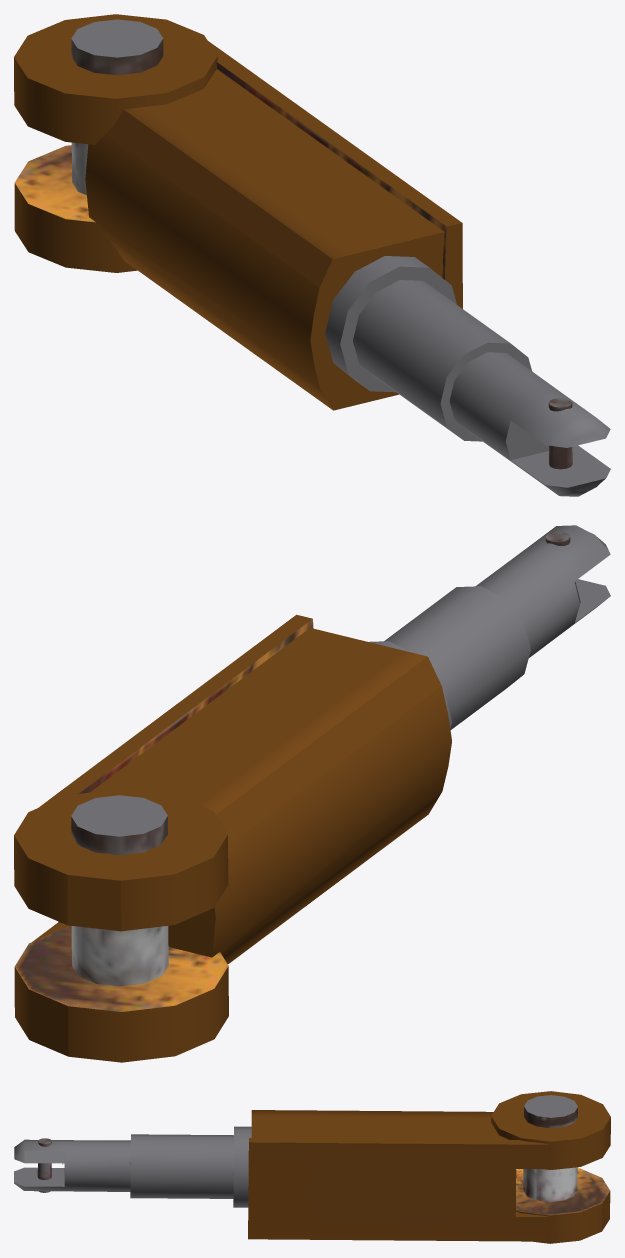
Rendered from handA.obj.
The picture shows the model from 3 angles, top to bottom: view 1: azimuth 30°, elevation 25°; view 2: azimuth 150°, elevation 25°; view 3: azimuth 270°, elevation 25°; orthographic projection. The views are drawn at different scales.
Visible parts, largest first — view 1: handA:hand_lowpolySurface397polySurface52polySurface22, handA:hand_lowpolySurface397polySurface52polySurface23, handA:hand_lowpolySurface397polySurface52polySurface32, handA:hand_lowpolySurface397polySurface52polySurface47, handA:hand_lowpolySurface397polySurface52polySurface4, handA:hand_lowpolySurface397polySurface52polySurface7, handA:hand_lowpolySurface397polySurface52polySurface26, handA:hand_lowpolySurface397polySurface52polySurface45, handA:hand_lowpolySurface397polySurface52polySurface34, handA:hand_lowpolySurface397polySurface52polySurface3, handA:hand_lowpolySurface397polySurface52polySurface15, handA:hand_lowpolySurface397polySurface52polySurface14 (+6 smaller); view 2: handA:hand_lowpolySurface397polySurface52polySurface22, handA:hand_lowpolySurface397polySurface52polySurface23, handA:hand_lowpolySurface397polySurface52polySurface26, handA:hand_lowpolySurface397polySurface52polySurface4, handA:hand_lowpolySurface397polySurface52polySurface47, handA:hand_lowpolySurface397polySurface52polySurface34, handA:hand_lowpolySurface397polySurface52polySurface32, handA:hand_lowpolySurface397polySurface52polySurface8, handA:hand_lowpolySurface397polySurface52polySurface45, handA:hand_lowpolySurface397polySurface52polySurface15, handA:hand_lowpolySurface397polySurface52polySurface33, handA:hand_lowpolySurface397polySurface52polySurface17 (+1 smaller); view 3: handA:hand_lowpolySurface397polySurface52polySurface36, handA:hand_lowpolySurface397polySurface52polySurface22, handA:hand_lowpolySurface397polySurface52polySurface23, handA:hand_lowpolySurface397polySurface52polySurface32, handA:hand_lowpolySurface397polySurface52polySurface47, handA:hand_lowpolySurface397polySurface52polySurface8, handA:hand_lowpolySurface397polySurface52polySurface34, handA:hand_lowpolySurface397polySurface52polySurface4, handA:hand_lowpolySurface397polySurface52polySurface26, handA:hand_lowpolySurface397polySurface52polySurface45, handA:hand_lowpolySurface397polySurface52polySurface14, handA:hand_lowpolySurface397polySurface52polySurface15 (+2 smaller).
Part boxes in pixels (x1,y1,x2,y2): handA:hand_lowpolySurface397polySurface52polySurface22: (85,69,443,409); handA:hand_lowpolySurface397polySurface52polySurface23: (353,280,510,438); handA:hand_lowpolySurface397polySurface52polySurface32: (449,352,610,496); handA:hand_lowpolySurface397polySurface52polySurface47: (14,14,217,98); handA:hand_lowpolySurface397polySurface52polySurface4: (14,56,217,144); handA:hand_lowpolySurface397polySurface52polySurface7: (310,232,444,410); handA:hand_lowpolySurface397polySurface52polySurface26: (14,183,137,272); handA:hand_lowpolySurface397polySurface52polySurface45: (208,41,461,226); handA:hand_lowpolySurface397polySurface52polySurface34: (14,145,95,222); handA:hand_lowpolySurface397polySurface52polySurface3: (340,266,456,392); handA:hand_lowpolySurface397polySurface52polySurface15: (71,19,163,57); handA:hand_lowpolySurface397polySurface52polySurface14: (325,256,428,388); handA:hand_lowpolySurface397polySurface52polySurface22: (90,628,451,963); handA:hand_lowpolySurface397polySurface52polySurface23: (384,586,530,729); handA:hand_lowpolySurface397polySurface52polySurface26: (14,966,228,1062); handA:hand_lowpolySurface397polySurface52polySurface4: (14,835,228,931); handA:hand_lowpolySurface397polySurface52polySurface47: (14,789,227,880); handA:hand_lowpolySurface397polySurface52polySurface34: (14,926,228,1011); handA:hand_lowpolySurface397polySurface52polySurface32: (476,525,610,657); handA:hand_lowpolySurface397polySurface52polySurface8: (71,816,168,986); handA:hand_lowpolySurface397polySurface52polySurface45: (38,614,312,807); handA:hand_lowpolySurface397polySurface52polySurface15: (71,795,167,836); handA:hand_lowpolySurface397polySurface52polySurface33: (79,619,313,793); handA:hand_lowpolySurface397polySurface52polySurface17: (58,907,215,957); handA:hand_lowpolySurface397polySurface52polySurface36: (248,1142,548,1241); handA:hand_lowpolySurface397polySurface52polySurface22: (251,1110,548,1144); handA:hand_lowpolySurface397polySurface52polySurface23: (130,1134,233,1198); handA:hand_lowpolySurface397polySurface52polySurface32: (14,1139,130,1191); handA:hand_lowpolySurface397polySurface52polySurface47: (491,1091,610,1141); handA:hand_lowpolySurface397polySurface52polySurface8: (523,1106,577,1201); handA:hand_lowpolySurface397polySurface52polySurface34: (516,1168,610,1215); handA:hand_lowpolySurface397polySurface52polySurface4: (491,1116,610,1169); handA:hand_lowpolySurface397polySurface52polySurface26: (516,1191,610,1243); handA:hand_lowpolySurface397polySurface52polySurface45: (249,1138,548,1144); handA:hand_lowpolySurface397polySurface52polySurface14: (233,1126,251,1207); handA:hand_lowpolySurface397polySurface52polySurface15: (524,1095,577,1117).
Size of the model in its own units: 43.62 by 47.43 by 215.
3 materials, 1 textured.
